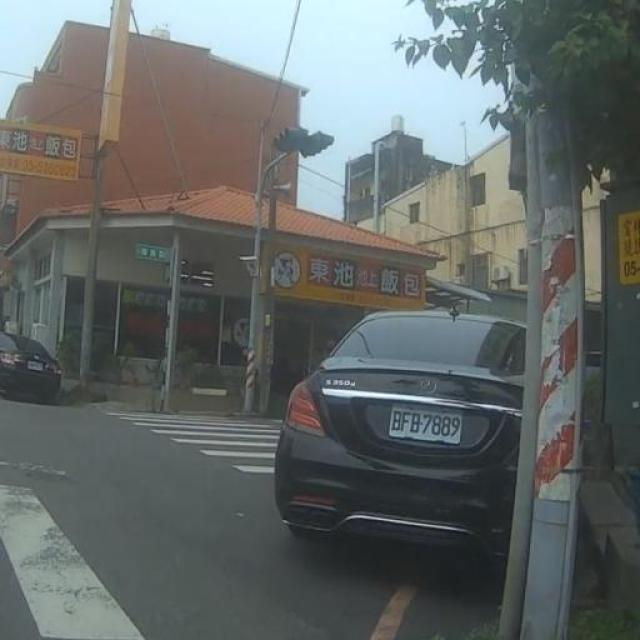illegalparking: (262, 235, 578, 615)
